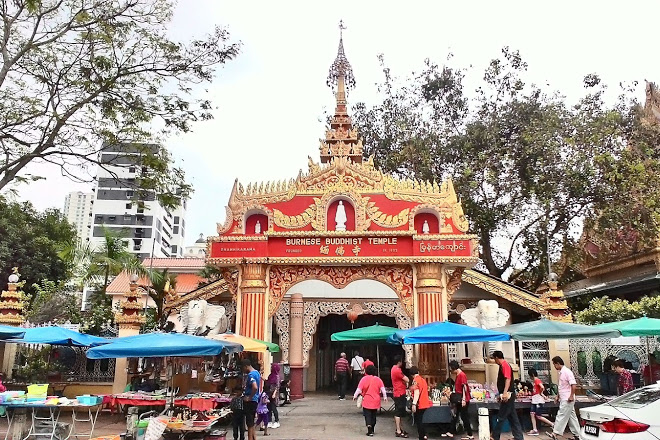Buddhist Temple: (210, 23, 439, 356)
